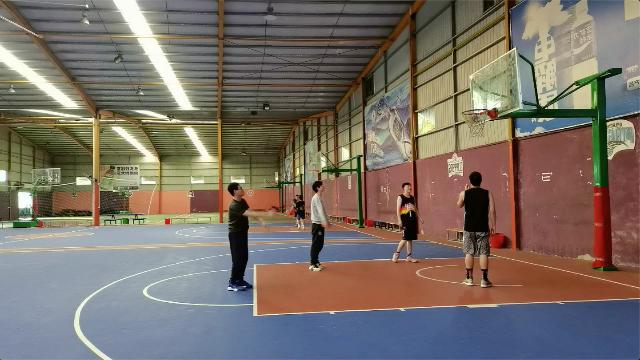basket: (462, 107, 488, 137)
